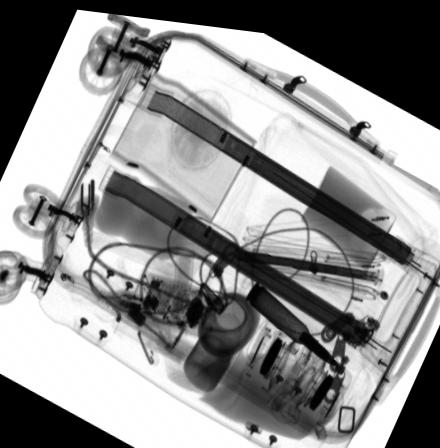Bullet: (244, 273, 341, 358)
